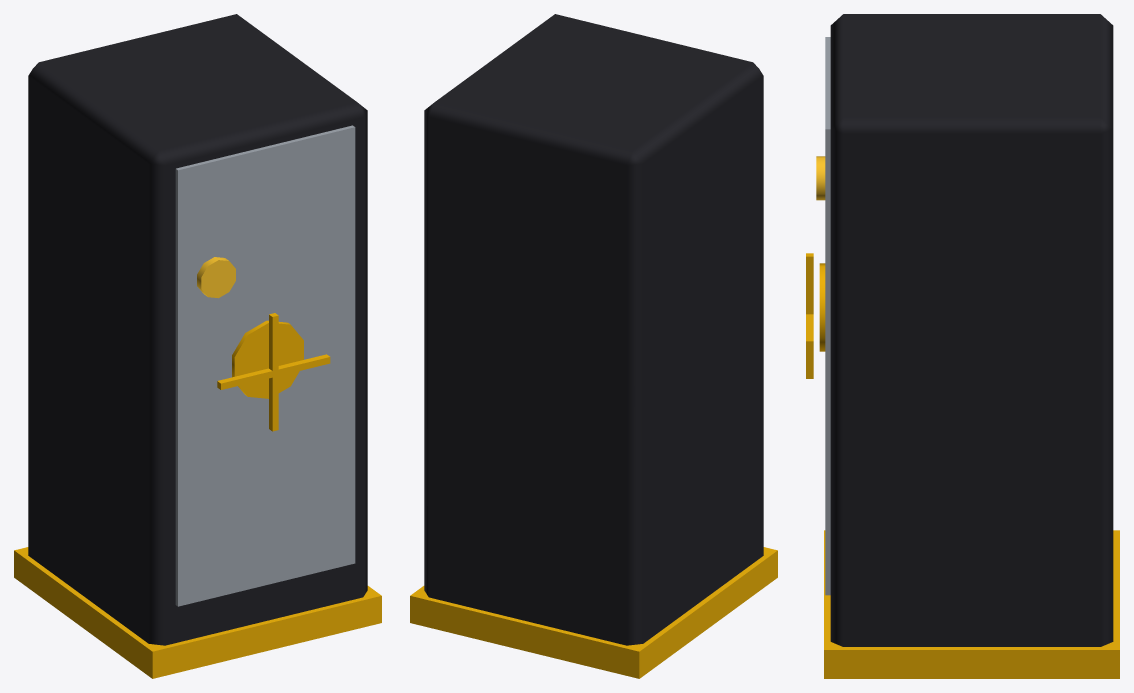
File: station_transport_ausstattung_3_2.glb
The picture shows the model from 3 angles, left to right: view 1: azimuth 30°, elevation 25°; view 2: azimuth 150°, elevation 25°; view 3: azimuth 270°, elevation 25°; orthographic projection. The views are drawn at different scales.
Visible parts, largest first — view 1: station_transport_ausstattung_3_2; view 2: station_transport_ausstattung_3_2; view 3: station_transport_ausstattung_3_2.
Part boxes in pixels (<box>): station_transport_ausstattung_3_2: <box>14,14,381,678</box>; station_transport_ausstattung_3_2: <box>410,14,777,678</box>; station_transport_ausstattung_3_2: <box>806,14,1119,678</box>.
Size of the model in its own units: 0.44 by 0.95 by 0.488.
